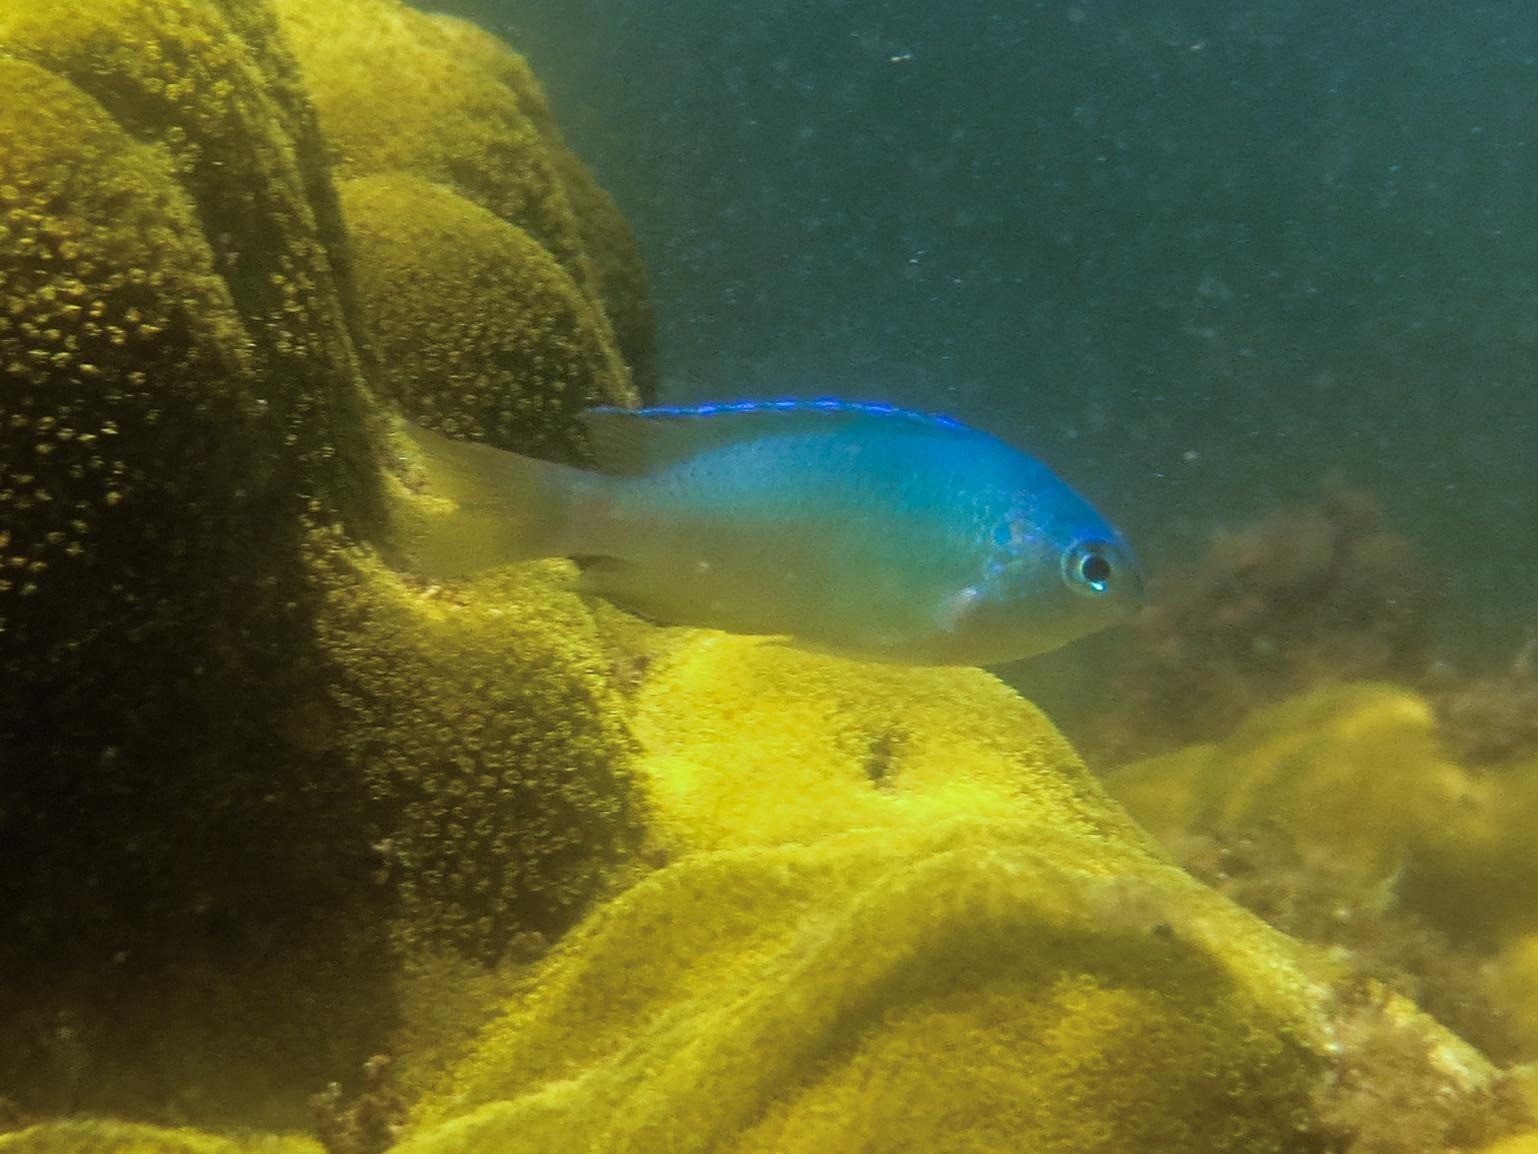Pomacentrus pavo: (342, 324, 1178, 690)
